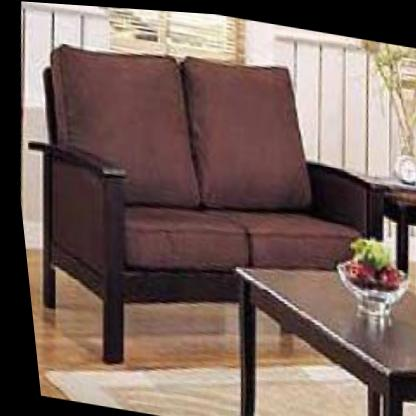Sofa: (2, 19, 416, 408)
Table: (209, 244, 416, 416)
